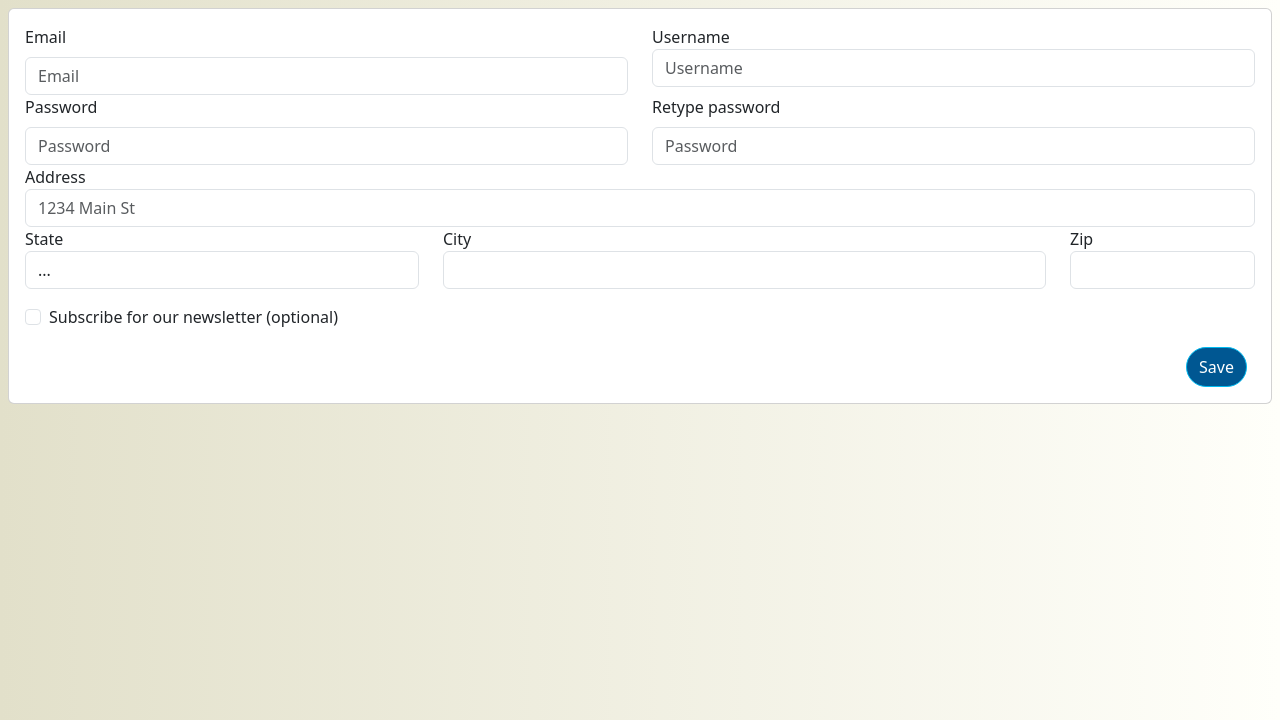
Test: User form tests › should give an error if username is not between 3 and 15 chars
Type "12" into the field with test id "username" at (954, 68), box [652, 49, 1255, 87]
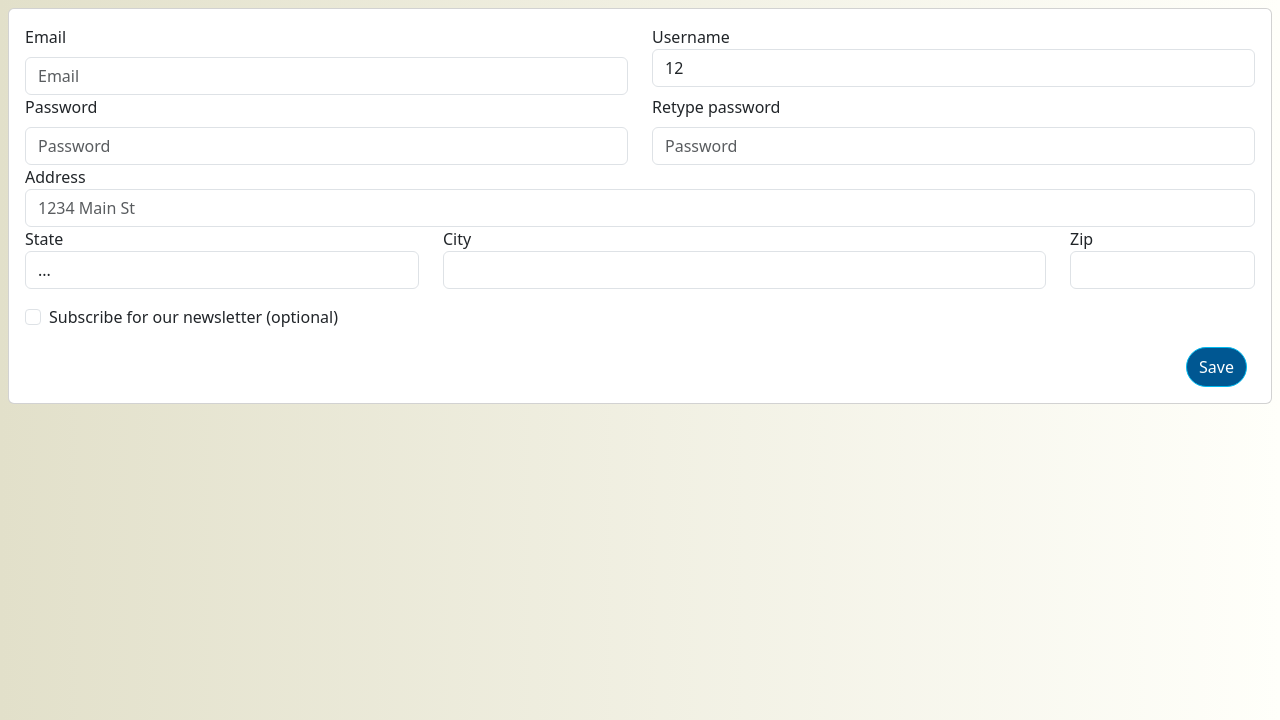
Leave the field with test id "username", box [652, 49, 1255, 87]
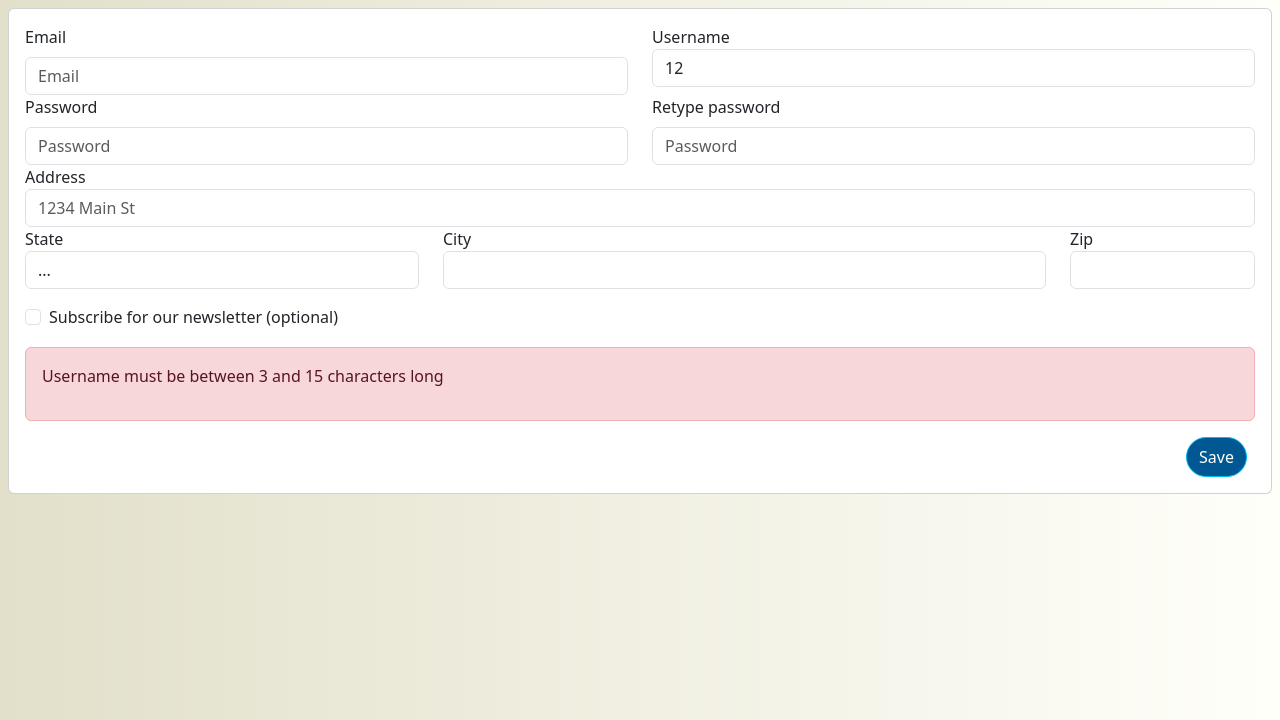
expect the text "Username must be between 3 and 15 characters long" is shown: met, box [42, 365, 444, 387]
